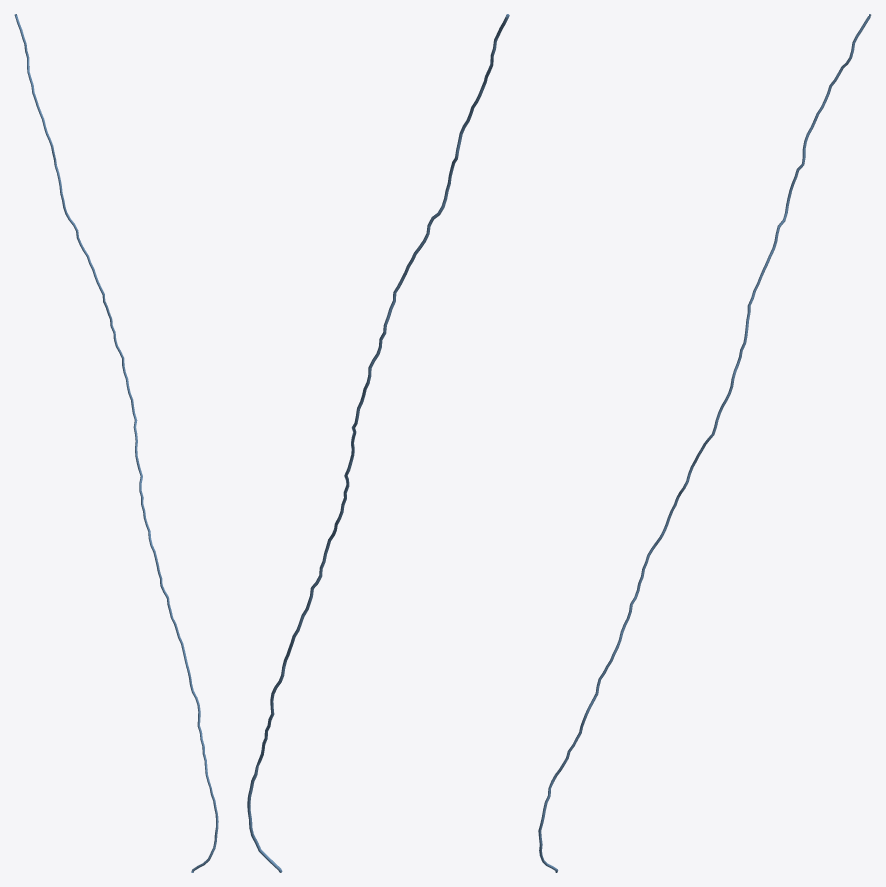
The model's file is sweep387.fbx.
3 views of the same model, side by side, from view 1: azimuth 30°, elevation 25°; view 2: azimuth 210°, elevation 25°; view 3: azimuth 270°, elevation 25° (orthographic). The views are drawn at different scales.
Parts seen in each view (by area): view 1: sweep387; view 2: sweep387; view 3: sweep387.
Part boxes in pixels (x1,y1,x2,y2): sweep387: (14,14,218,872); sweep387: (247,14,509,872); sweep387: (538,14,871,872).
Size of the model in its own units: 0.4986 by 6.43 by 2.31.
